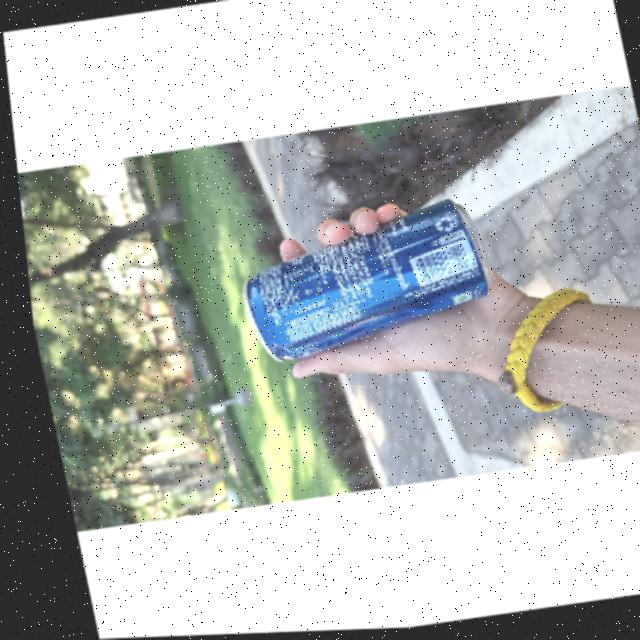Thums Up: (223, 194, 492, 368)
